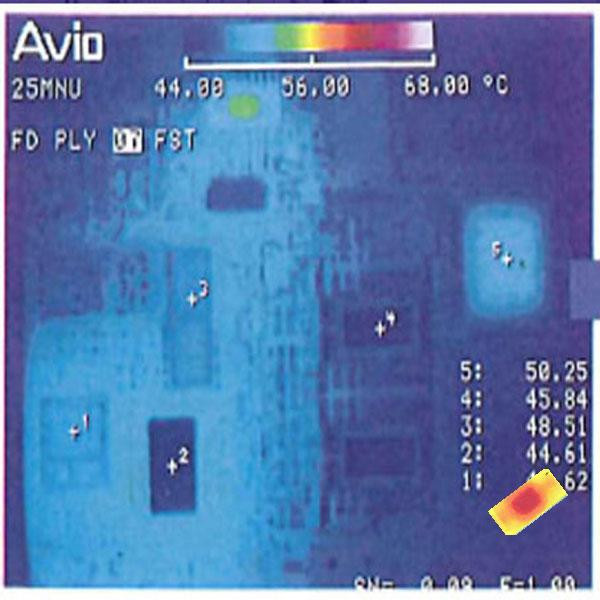componente_T: (486, 465, 571, 537), (287, 20, 360, 56)
